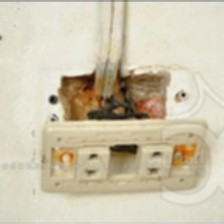three_eye_plug: (33, 108, 213, 202)
